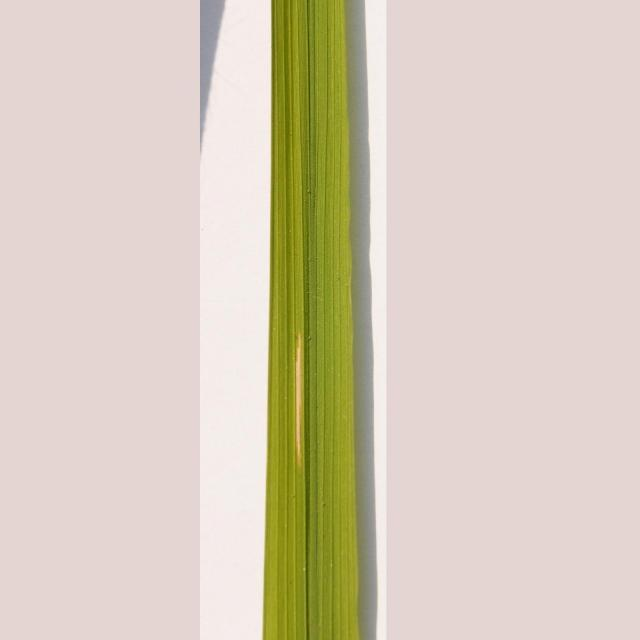leaf blight: (272, 320, 334, 498)
